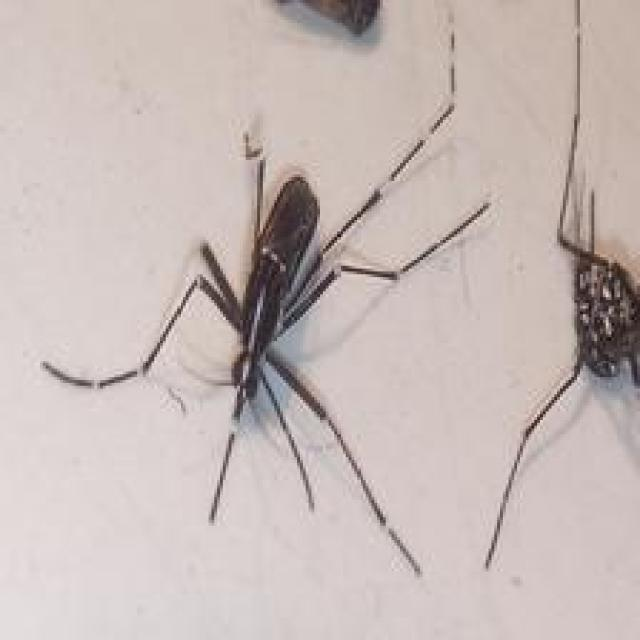Aedes albopictus: (483, 1, 640, 573)
